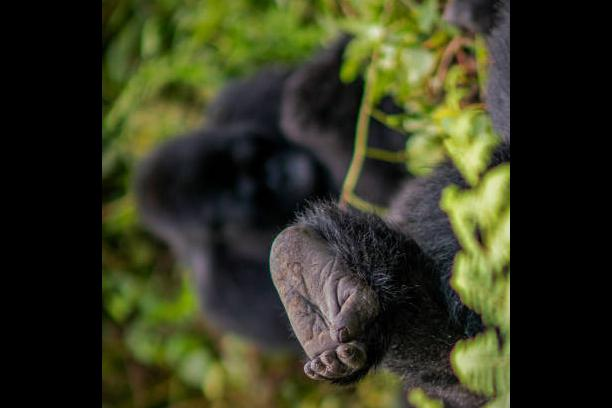goriile_montagne: (133, 92, 353, 291)
